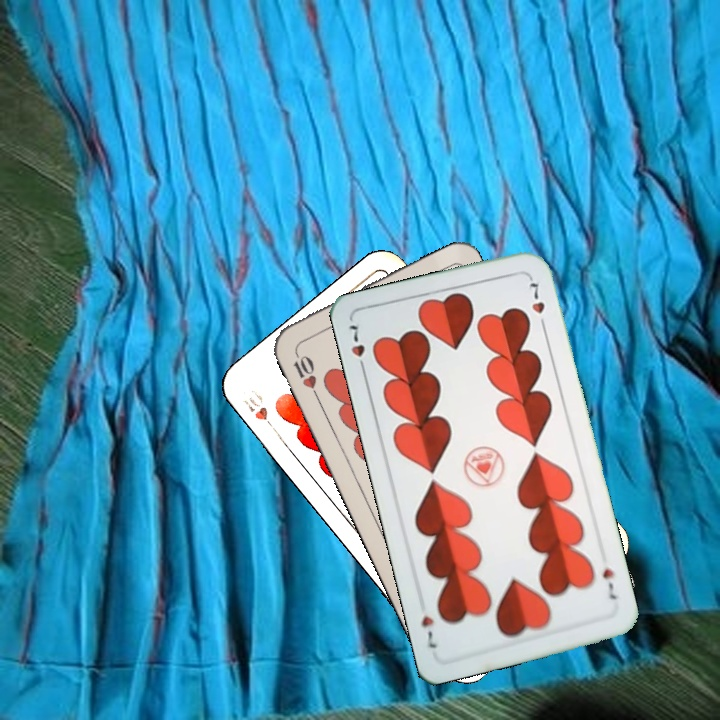H10: (238, 385, 281, 437), (289, 344, 321, 401)
H7: (345, 320, 369, 376), (598, 564, 619, 602)
